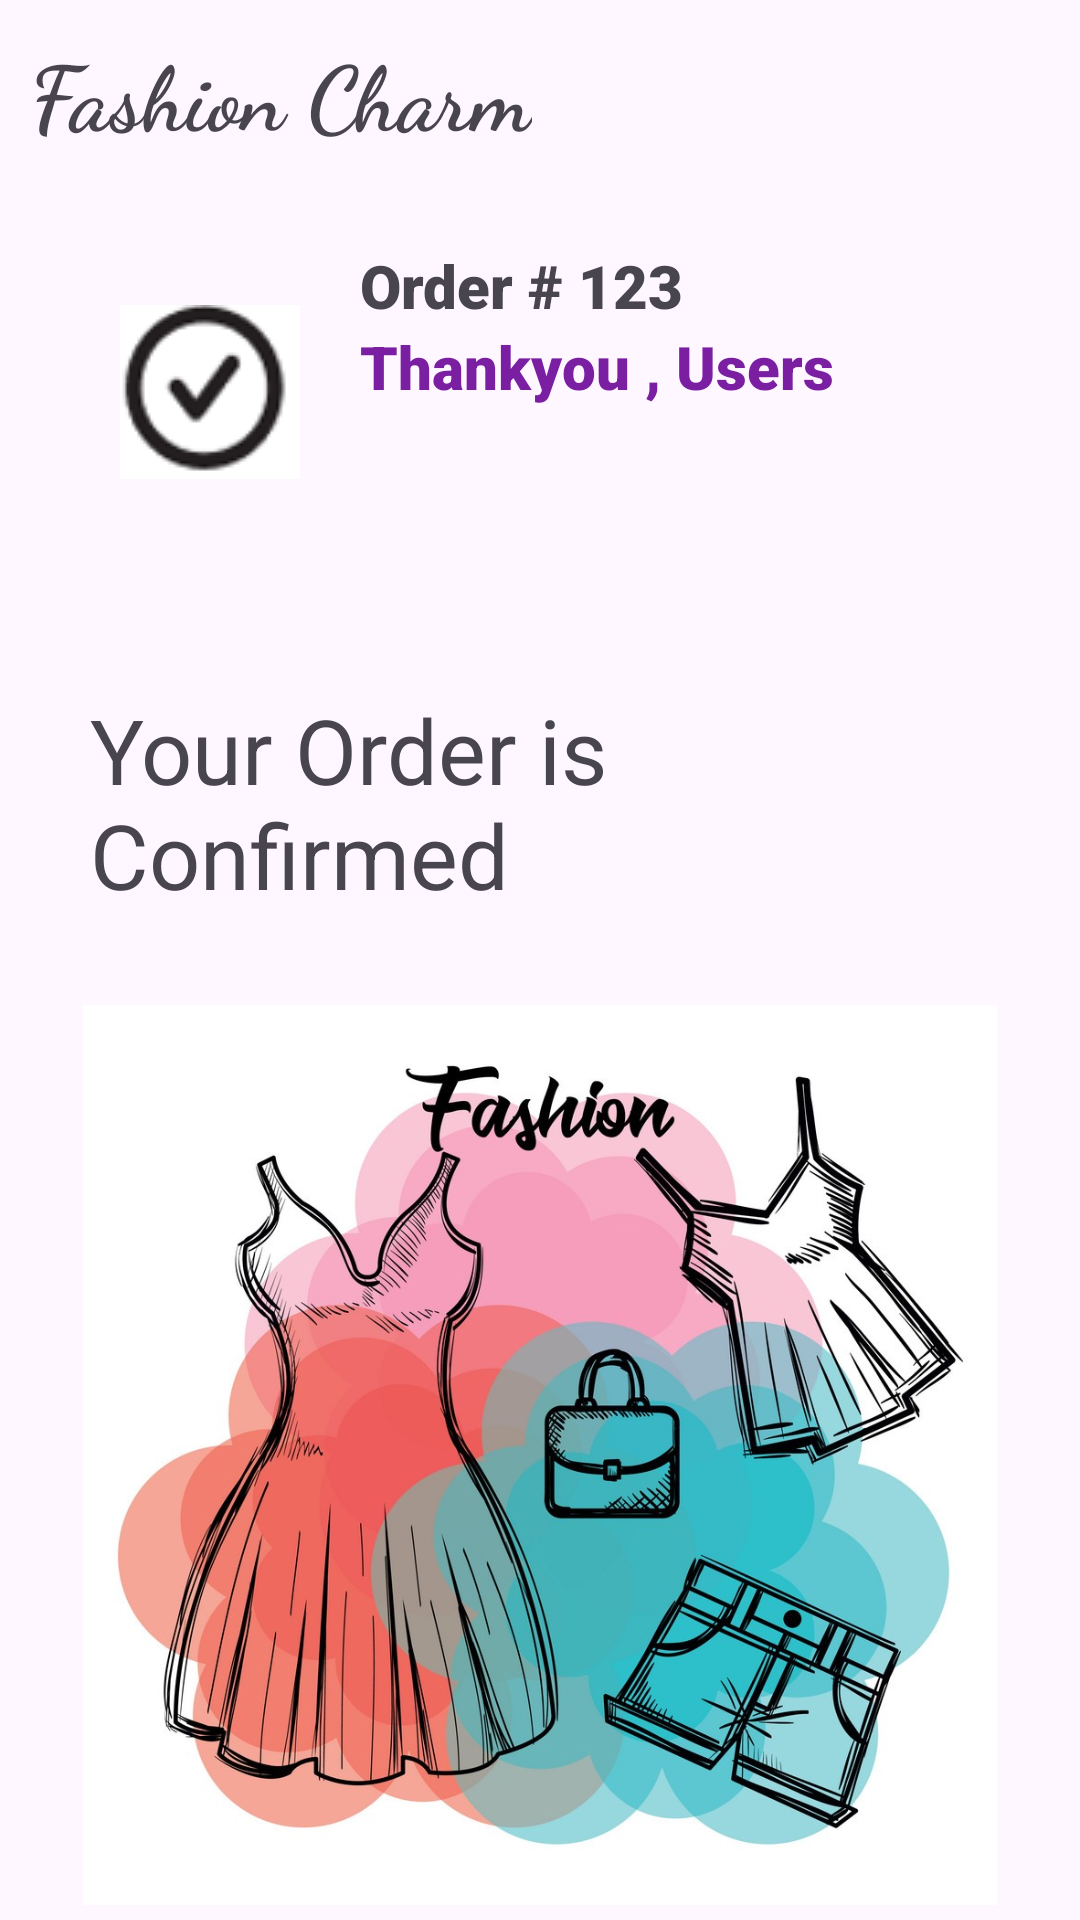

Icon bounding boxes for this 1080w x 1920h phone screenshot, format (x1, y1, x2, y2):
verify: (123, 305, 286, 471)
